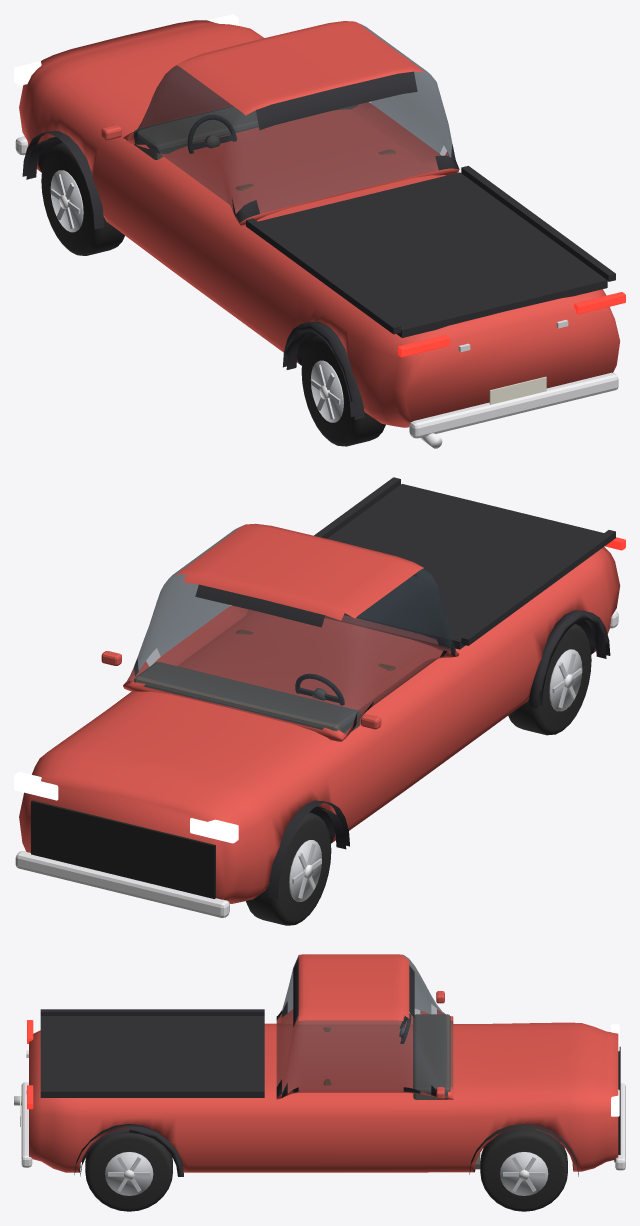
The model's file is pickup.glb.
3 views of the same model, one above another, from view 1: azimuth 30°, elevation 25°; view 2: azimuth 150°, elevation 25°; view 3: azimuth 270°, elevation 25° (orthographic). The views are drawn at different scales.
Visible parts, largest first — view 1: Body.008, Glass.008, Wheel_FL.008, Wheel_RL.008, Interior.008, Lights_Tail.008, SteeringWheel.008, Lights_Head.008; view 2: Body.008, Glass.008, Interior.008, Wheel_FL.008, Wheel_RL.008, Lights_Head.008, SteeringWheel.008; view 3: Body.008, Glass.008, Wheel_FR.008, Wheel_RR.008, Interior.008.
Part boxes in pixels (<box>): Body.008: <box>15,20,620,448</box>; Glass.008: <box>127,22,455,213</box>; Wheel_FL.008: <box>41,142,124,255</box>; Wheel_RL.008: <box>301,335,385,446</box>; Interior.008: <box>134,104,395,190</box>; Lights_Tail.008: <box>398,292,625,357</box>; SteeringWheel.008: <box>187,114,236,153</box>; Lights_Head.008: <box>14,14,238,85</box>; Body.008: <box>15,477,620,917</box>; Glass.008: <box>127,526,452,734</box>; Interior.008: <box>133,629,395,733</box>; Wheel_FL.008: <box>246,812,331,925</box>; Wheel_RL.008: <box>508,624,591,735</box>; Lights_Head.008: <box>14,772,238,843</box>; SteeringWheel.008: <box>295,673,344,705</box>; Body.008: <box>14,954,625,1176</box>; Glass.008: <box>276,955,453,1096</box>; Wheel_FR.008: <box>480,1128,567,1211</box>; Wheel_RR.008: <box>85,1133,172,1211</box>; Interior.008: <box>323,1014,480,1169</box>.
Bounding box in the file's own units: 2.26 × 1.92 × 5.71.
